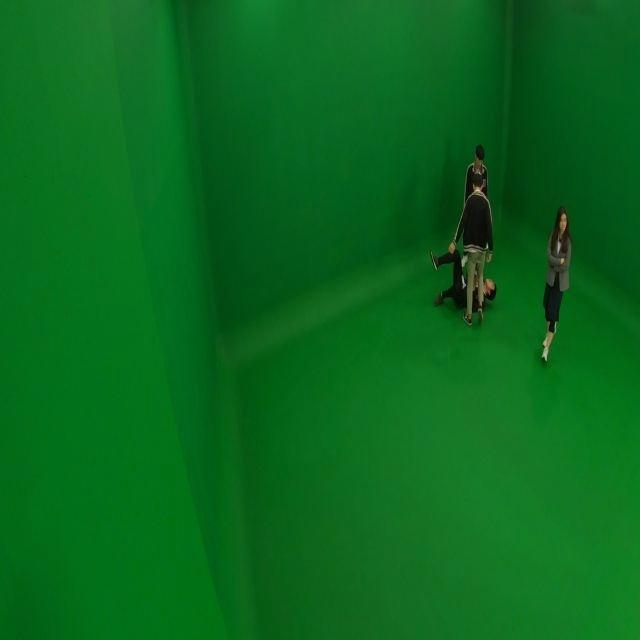fight: (433, 147, 496, 324)
non-fight: (539, 206, 572, 362)
